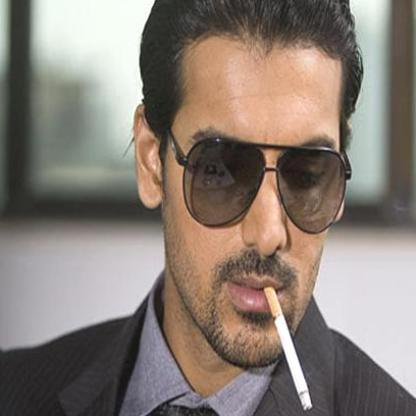cigarette: (265, 285, 314, 411)
person: (84, 0, 372, 415)
